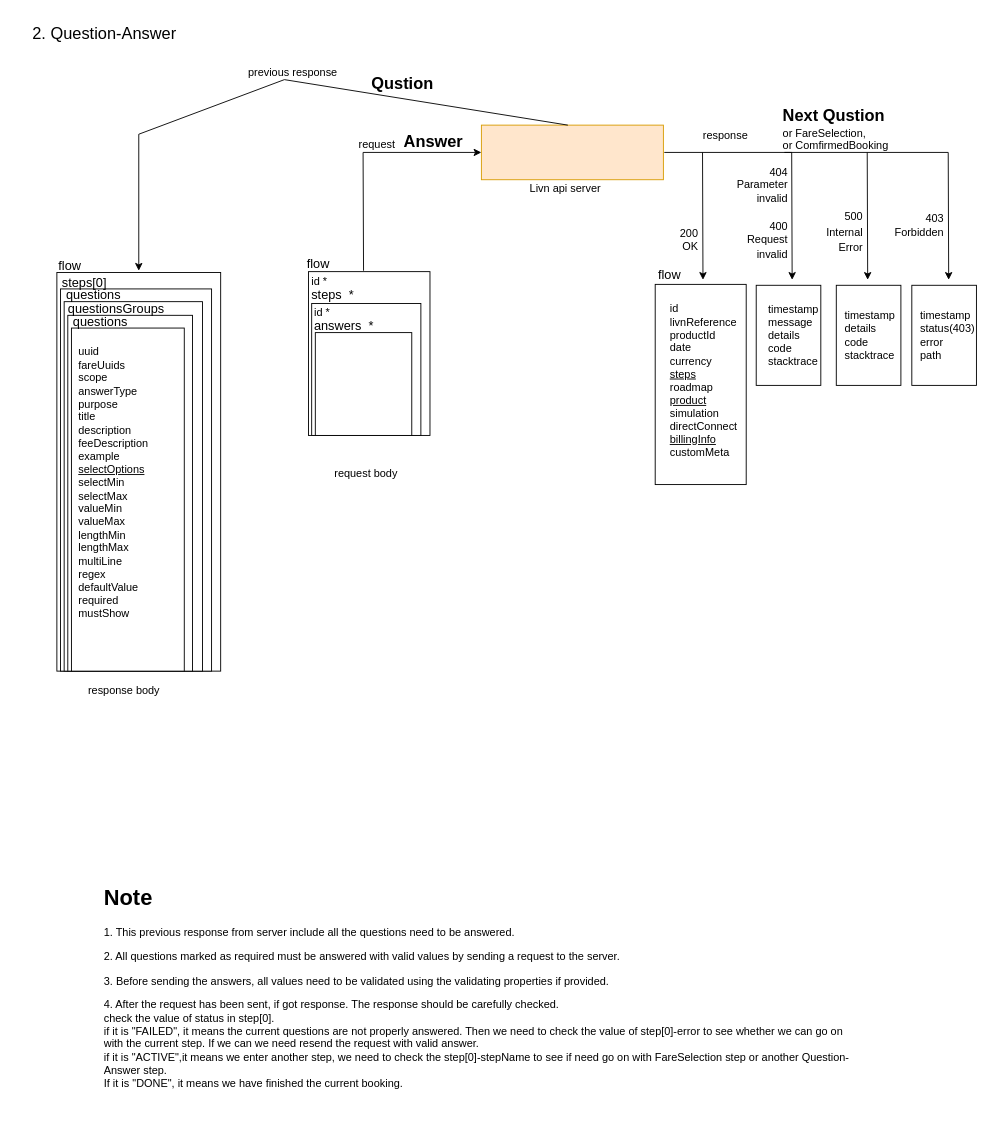
Image size: 992x1123. Some labels were removed from this diagram. The shapes that lost their labels are listed below. From the top down, each one's centre as x and y in pixels, then its label:
the point at 571,152: Method : POST URI: /api/flows
the point at 363,383: questionUuid * value *
